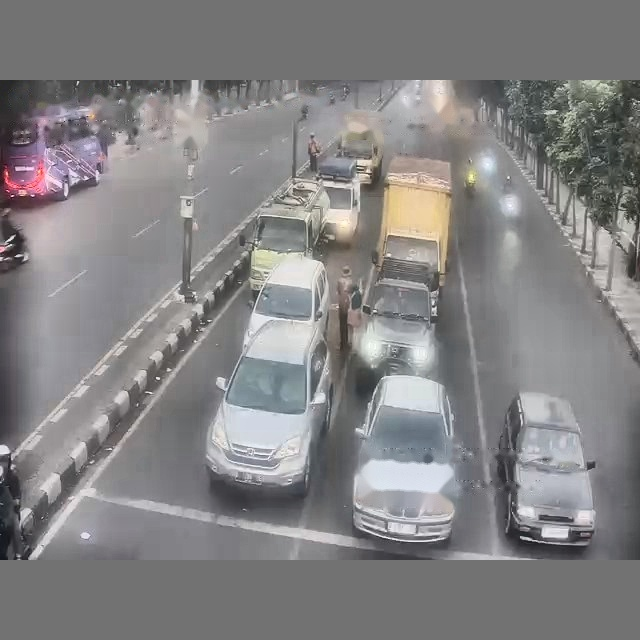Mobil: (206, 320, 332, 496), (352, 375, 462, 542), (496, 392, 595, 546), (353, 278, 438, 395), (243, 256, 329, 346)
Motor: (0, 234, 28, 270), (301, 105, 308, 119), (329, 93, 335, 104)
Truk: (371, 155, 451, 321), (239, 178, 329, 299), (338, 110, 383, 184)
